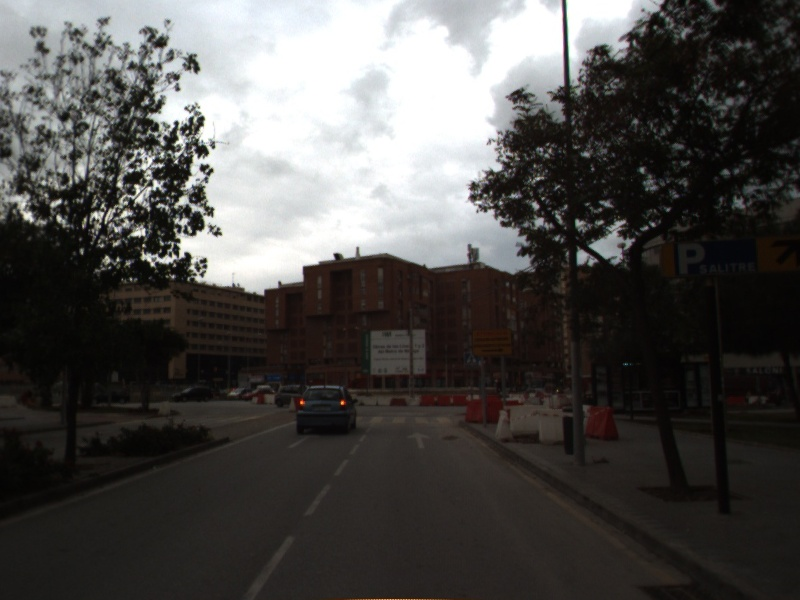STRAIGHT: (405, 430, 432, 450)
